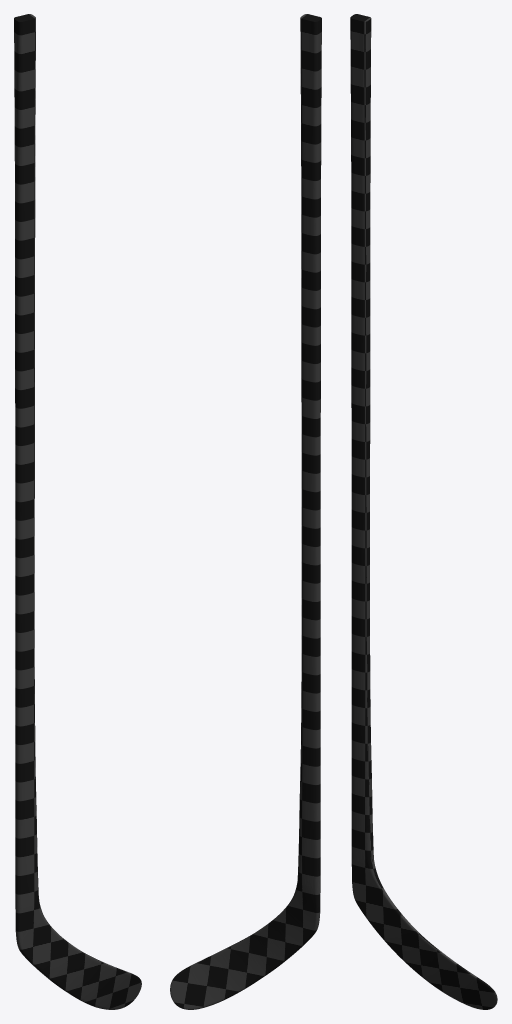
File: P102-SBO.glb
3 views of the same model, side by side, from view 1: azimuth 30°, elevation 25°; view 2: azimuth 150°, elevation 25°; view 3: azimuth 330°, elevation 25° (orthographic). The views are drawn at different scales.
Visible parts, largest first — view 1: geometry_0; view 2: geometry_0; view 3: geometry_0.
Boxes of the visible parts, bbox=[...] form: geometry_0: bbox=[14, 14, 141, 1009]; geometry_0: bbox=[170, 14, 321, 1009]; geometry_0: bbox=[350, 14, 497, 1009].
Size of the model in its own units: 233 by 1650 by 57.36.
1 material, 1 textured.
